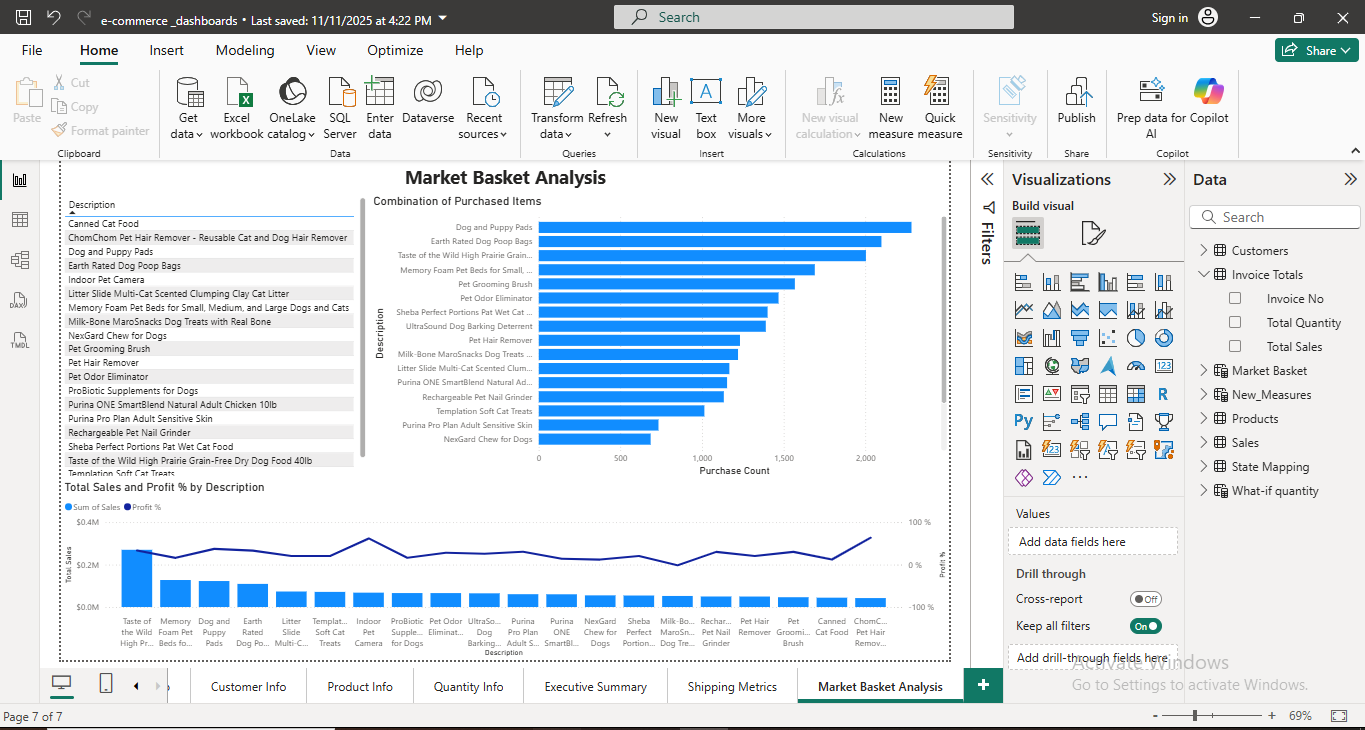

The dashboard page shown, as its layout file describes it:
{"tool":"powerbi","page":{"name":"Market Basket Analysis","canvas":[1280,720],"ordinal":6},"visuals":[{"type":"tableEx","fields":{"Values":["Sales.Description"]},"box":[0,49.7,444.5,411.4],"z":0},{"type":"barChart","title":"Combination of Purchased Items","fields":{"Category":["Market Basket.Description"],"Y":["CountNonNull(Market Basket.Description)"]},"box":[444.5,49.7,835.5,411.4],"z":1000},{"type":"lineStackedColumnComboChart","title":"Total Sales and Profit % by Description","fields":{"Category":["Products.Description"],"Y":["Sum(Sales.Sales)"],"Y2":["New_Measures.Profit %"]},"box":[0,461.1,1280.4,258.9],"z":2000},{"type":"textbox","box":[0,0,1279.5,49.7],"z":3000}]}

Visuals, with their boxes on the page's 1280x720 design canvas (x1, y1, x2, y2). These are canvas units, not pixel positions in the 1365x730 screenshot, which may show the page scaled, cropped or inside an application window:
tableEx - Sales.Description: 0 50 444 461
"Combination of Purchased Items" barChart: 444 50 1280 461
"Total Sales and Profit % by Description" lineStackedColumnComboChart: 0 461 1280 720
textbox: 0 0 1280 50
